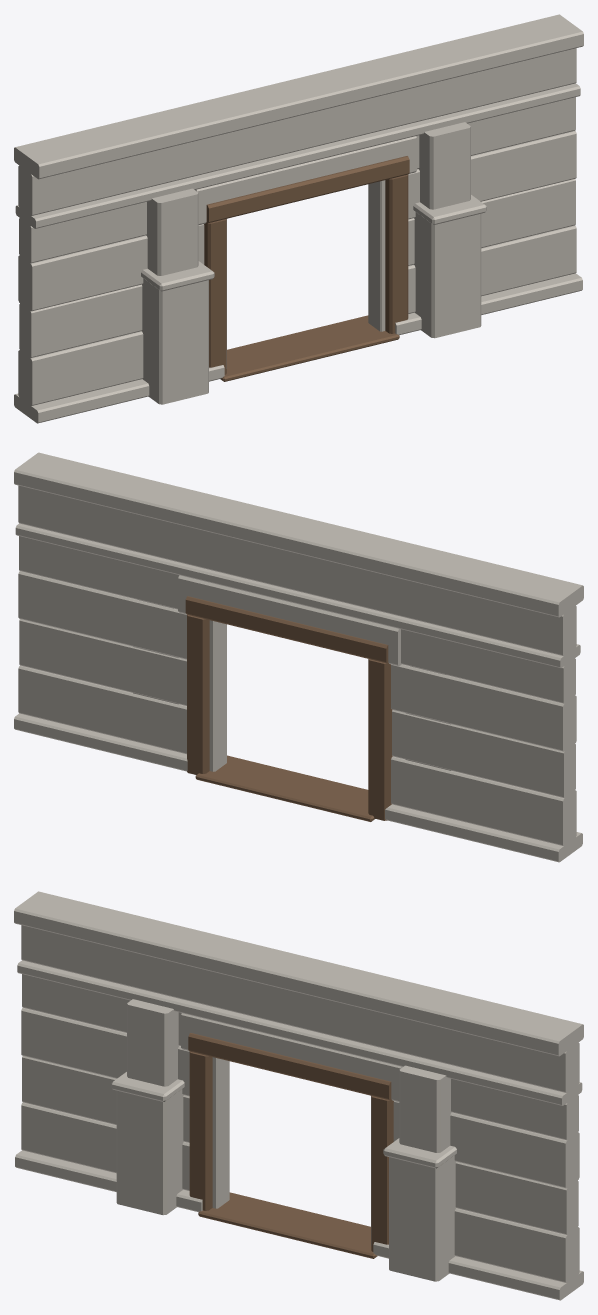
File: wall_door.glb
3 views of the same model, one above another, from view 1: azimuth 30°, elevation 25°; view 2: azimuth 150°, elevation 25°; view 3: azimuth 330°, elevation 25° (orthographic).
Parts seen in each view (by area): view 1: wall_door; view 2: wall_door; view 3: wall_door.
Boxes of the visible parts, left/top/right/bottom form: wall_door: left=14, top=14, right=583, bottom=423; wall_door: left=14, top=452, right=583, bottom=862; wall_door: left=14, top=891, right=583, bottom=1300.
Size of the model in its own units: 11.4 by 5.25 by 1.49.
